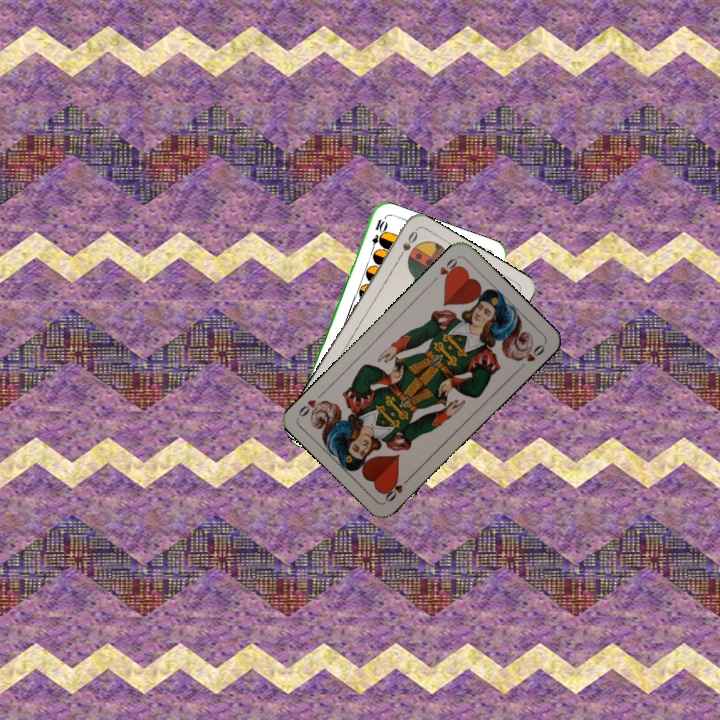E10: (367, 215, 387, 255)
HO: (428, 253, 462, 286), (380, 473, 413, 505)
SO: (393, 227, 420, 263)
